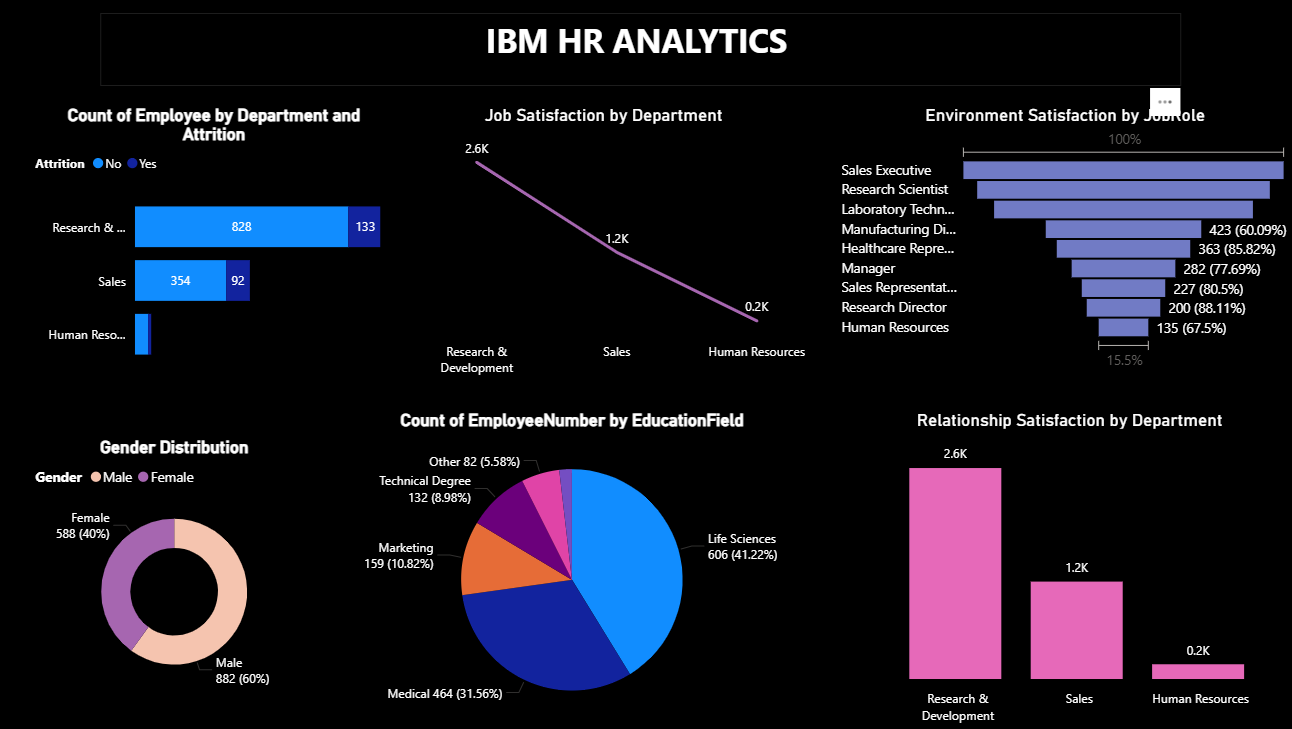

This screenshot's page, from the dashboard's own definition file:
{"tool":"powerbi","page":{"name":"HR Analytics","canvas":[1280,720],"ordinal":0},"visuals":[{"type":"barChart","title":"Count of Employee by Department and Attrition","fields":{"Category":["WA_Fn-UseC_-HR-Employee-Attrition.Department"],"Series":["WA_Fn-UseC_-HR-Employee-Attrition.Attrition"],"Y":["CountNonNull(WA_Fn-UseC_-HR-Employee-Attrition.EmployeeNumber)"]},"box":[30.3,103.9,360.8,274.2],"z":0},{"type":"donutChart","title":"Gender Distribution","fields":{"Category":["WA_Fn-UseC_-HR-Employee-Attrition.Gender"],"Y":["CountNonNull(WA_Fn-UseC_-HR-Employee-Attrition.EmployeeCount)"]},"box":[30.3,430.1,282.9,255.5],"z":1},{"type":"pieChart","fields":{"Category":["WA_Fn-UseC_-HR-Employee-Attrition.EducationField"],"Y":["CountNonNull(WA_Fn-UseC_-HR-Employee-Attrition.EmployeeNumber)"]},"box":[313.2,404.2,499.4,316.1],"z":2},{"type":"lineChart","title":"Job Satisfaction by Department","fields":{"Y":["Sum(WA_Fn-UseC_-HR-Employee-Attrition.JobSatisfaction)"],"Category":["WA_Fn-UseC_-HR-Employee-Attrition.Department"]},"box":[373.8,103.9,438.8,274.2],"z":3},{"type":"clusteredColumnChart","title":"Relationship Satisfaction by Department","fields":{"Category":["WA_Fn-UseC_-HR-Employee-Attrition.Department"],"Y":["Sum(WA_Fn-UseC_-HR-Employee-Attrition.RelationshipSatisfaction)"]},"box":[822,404,458,316],"z":4},{"type":"funnel","title":"Environment Satisfaction by JobRole","fields":{"Y":["Sum(WA_Fn-UseC_-HR-Employee-Attrition.EnvironmentSatisfaction)"],"Category":["WA_Fn-UseC_-HR-Employee-Attrition.JobRole"]},"box":[822.1,104.3,449.1,265],"z":5},{"type":"textbox","box":[99.4,14.7,1061.4,72.4],"z":6}]}

Visuals, with their boxes in screenshot pixels (x1, y1, x2, y2), scaled from the page's 1280x720 canvas onto the 1292x729 screenshot:
"Count of Employee by Department and Attrition" barChart: {"x1": 31, "y1": 105, "x2": 395, "y2": 383}
"Gender Distribution" donutChart: {"x1": 31, "y1": 435, "x2": 316, "y2": 694}
pieChart - WA_Fn-UseC_-HR-Employee-Attrition.EducationField x CountNonNull(WA_Fn-UseC_-HR-Employee-Attrition.EmployeeNumber): {"x1": 316, "y1": 409, "x2": 820, "y2": 728}
"Job Satisfaction by Department" lineChart: {"x1": 377, "y1": 105, "x2": 820, "y2": 383}
"Relationship Satisfaction by Department" clusteredColumnChart: {"x1": 830, "y1": 409, "x2": 1291, "y2": 728}
"Environment Satisfaction by JobRole" funnel: {"x1": 830, "y1": 106, "x2": 1283, "y2": 374}
textbox: {"x1": 100, "y1": 15, "x2": 1172, "y2": 88}
